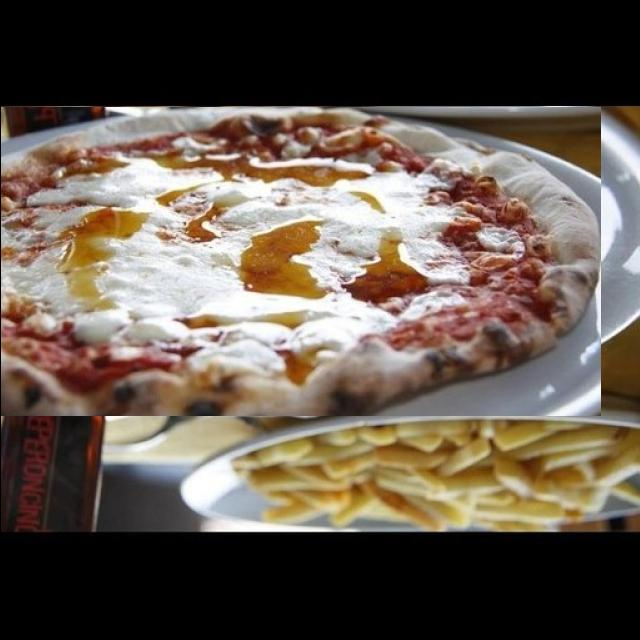pizza: (0, 106, 600, 415)
